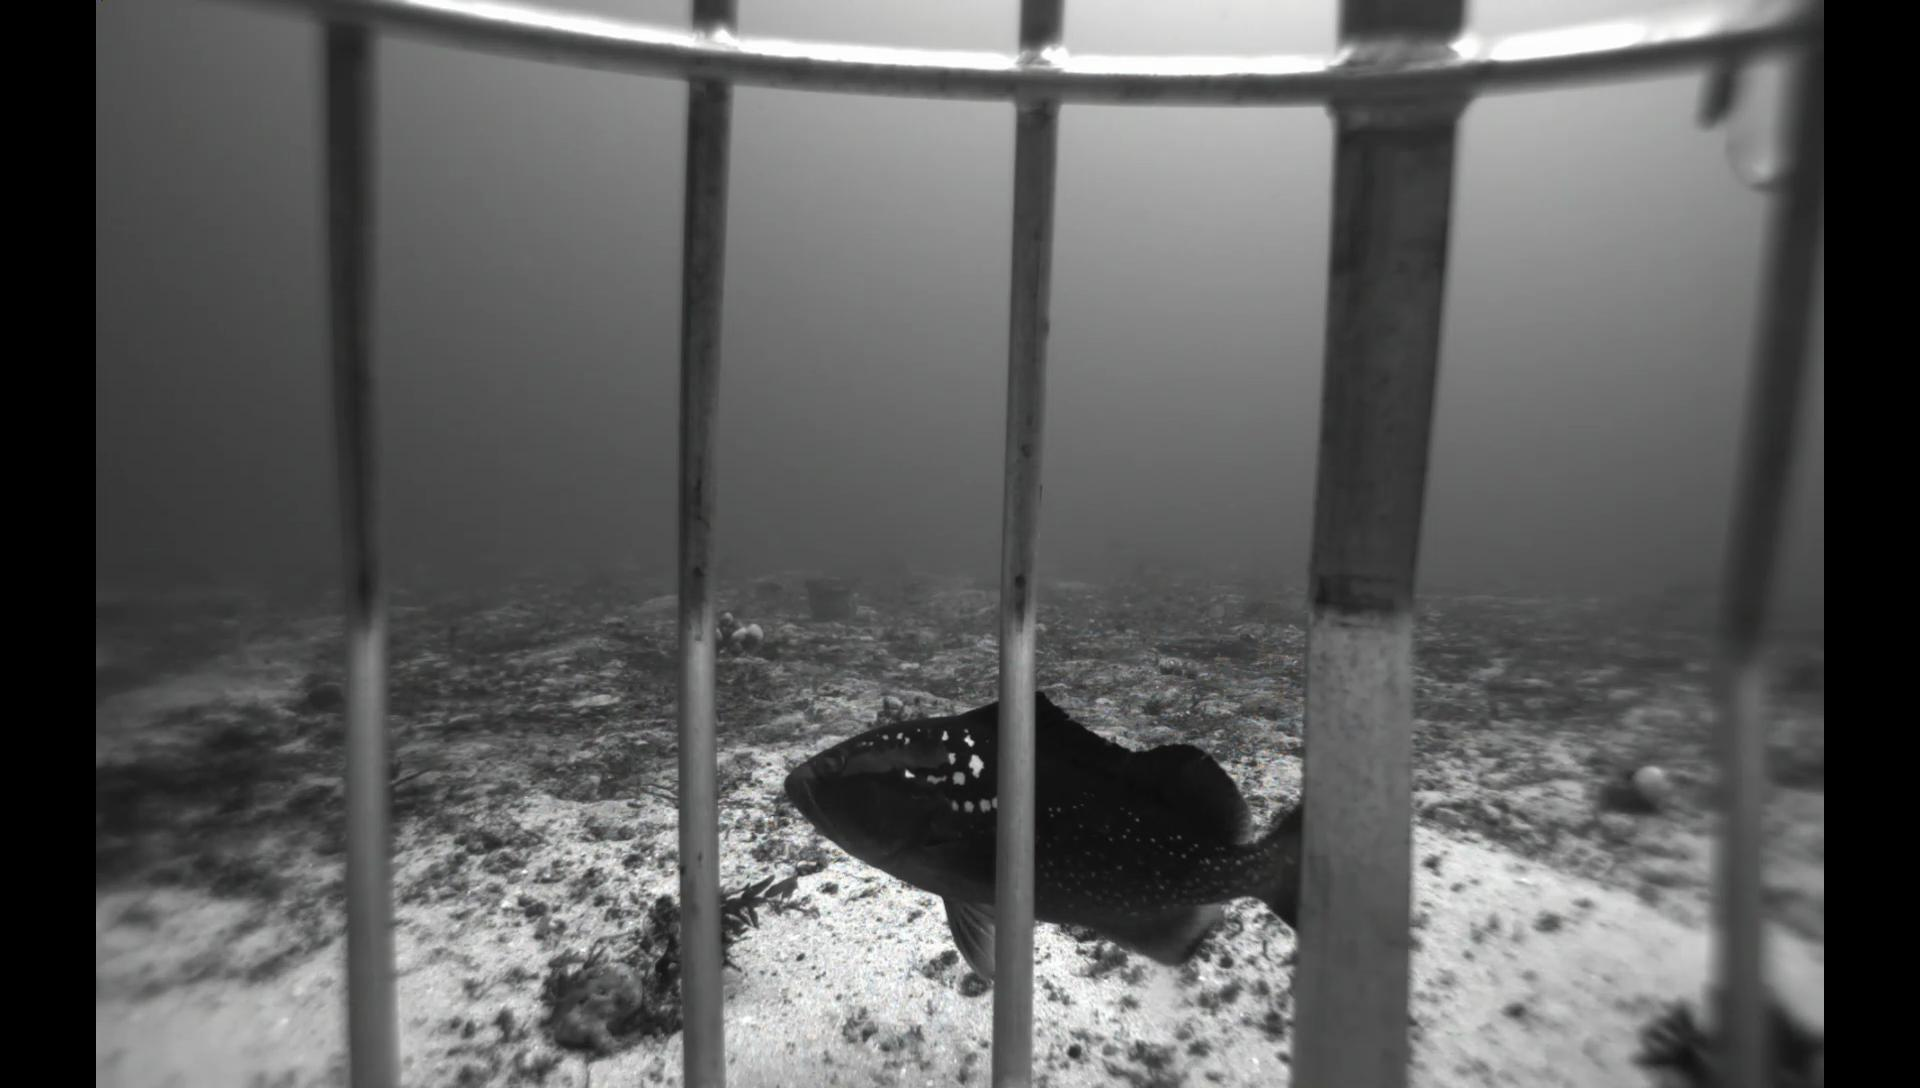CHAETODONOCELLATUS-170260307: (1271, 584, 1307, 615), (1196, 597, 1233, 622)
EPINEPHELUSMORIO-170021211: (767, 677, 1302, 989)
PRISTIGENYSALTA-170050401: (295, 673, 345, 716)
